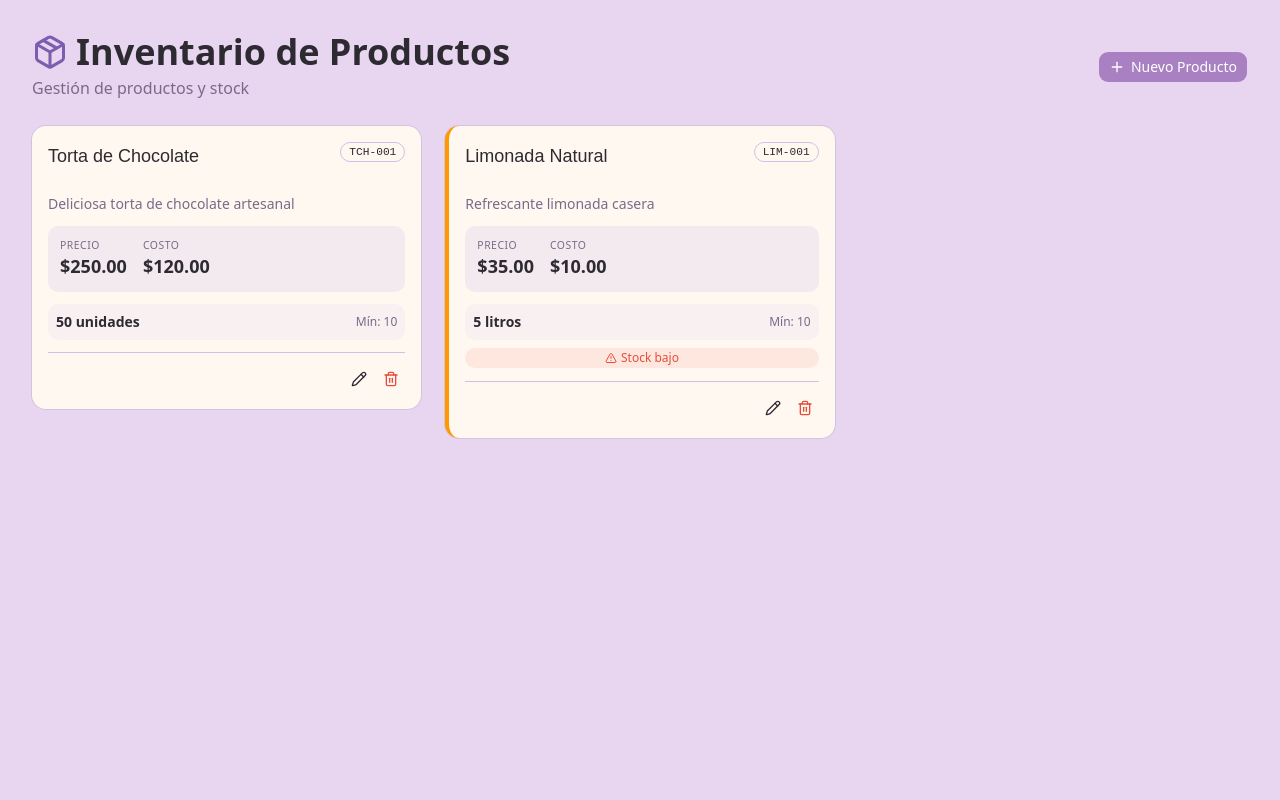
Test: Inventario Component › should open dialog for editing product
The width and height of the screenshot is (1280, 800).
Expected: the text "Torta de Chocolate" is shown, [48,142,199,170]
# Click edit button on first product
Click the button titled "Editar" below "unidades".
click(359, 380)  # box [345,366,373,394]
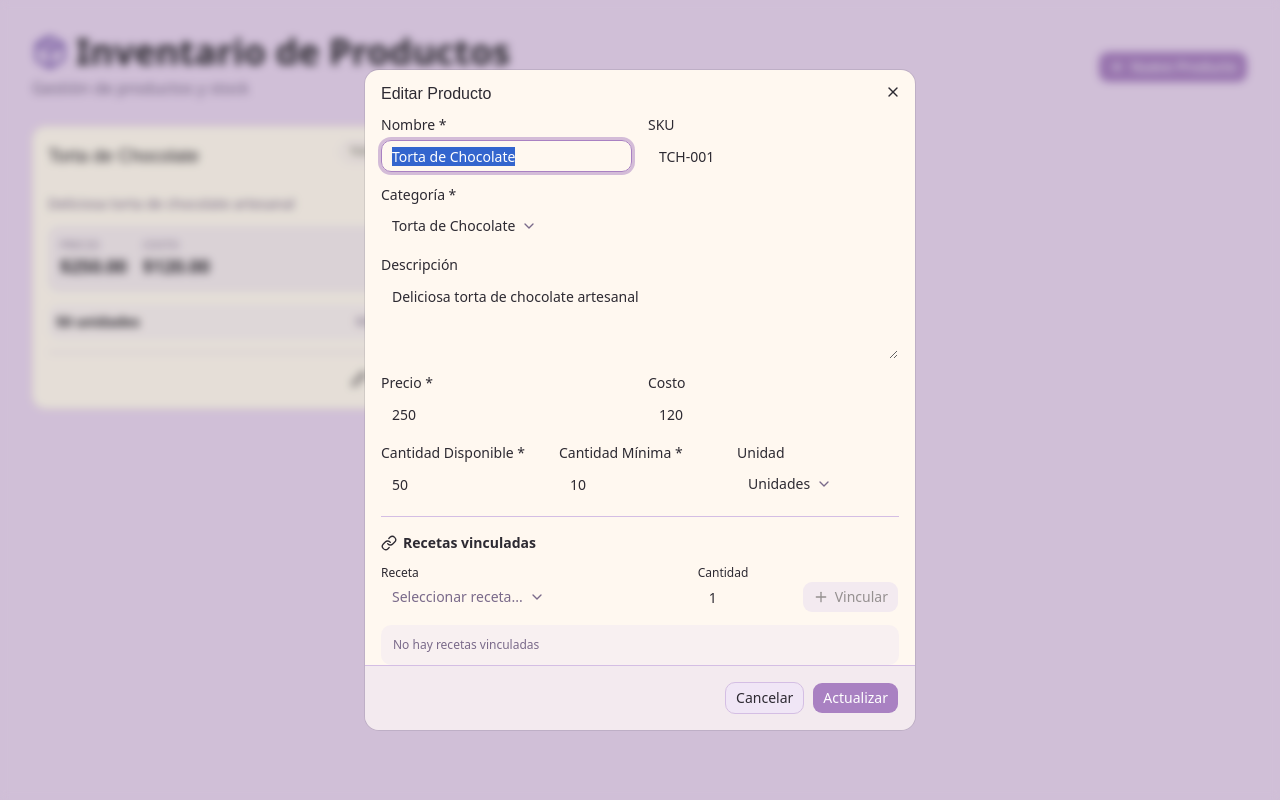
Result: the heading "Editar Producto" is shown at [381,85,491,102]
